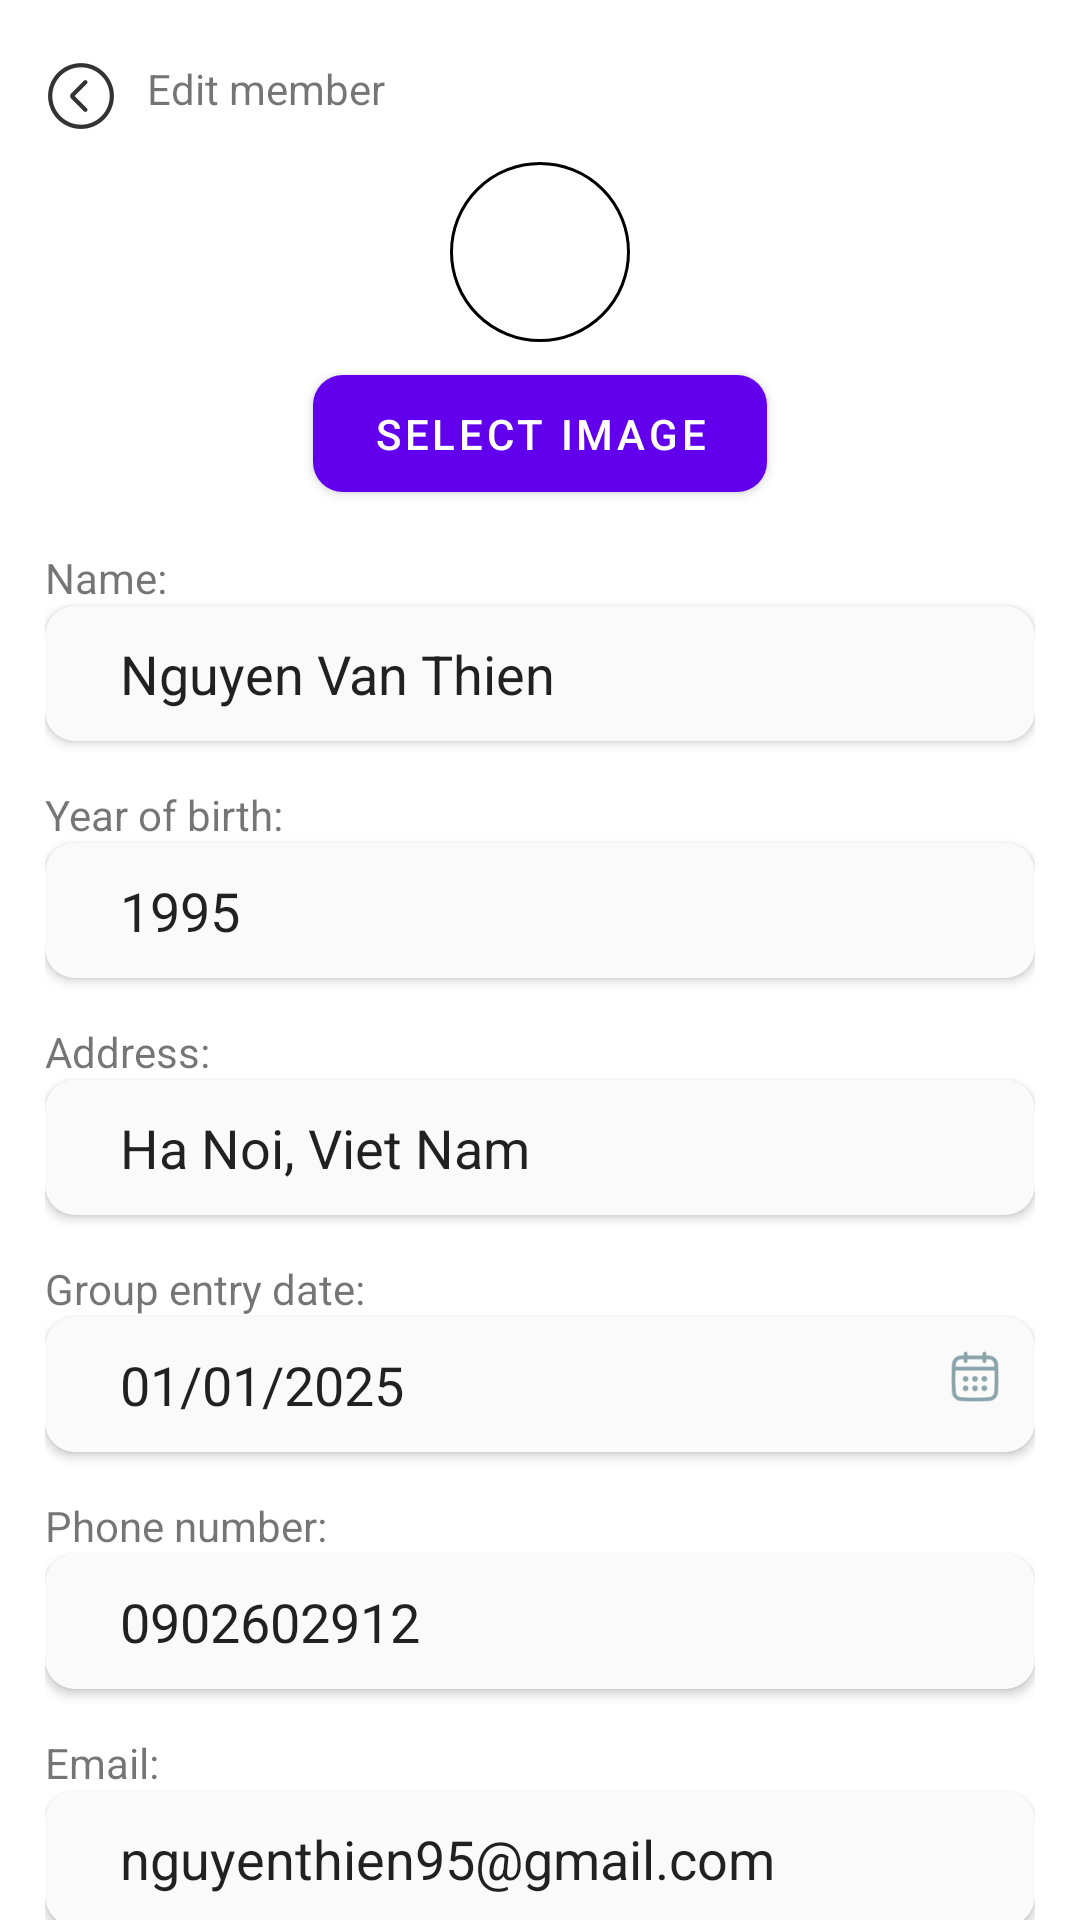

Icons on this 1080w x 1920h Android screen, each with its box as (x1, y1, x2, y2):
back: (48, 63, 114, 129)
calendar: (951, 1351, 999, 1402)
